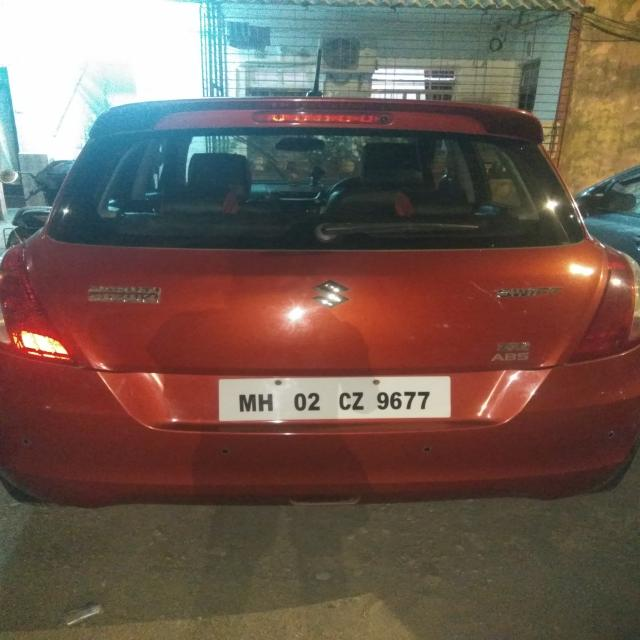Number-Plate: (223, 373, 450, 421)
